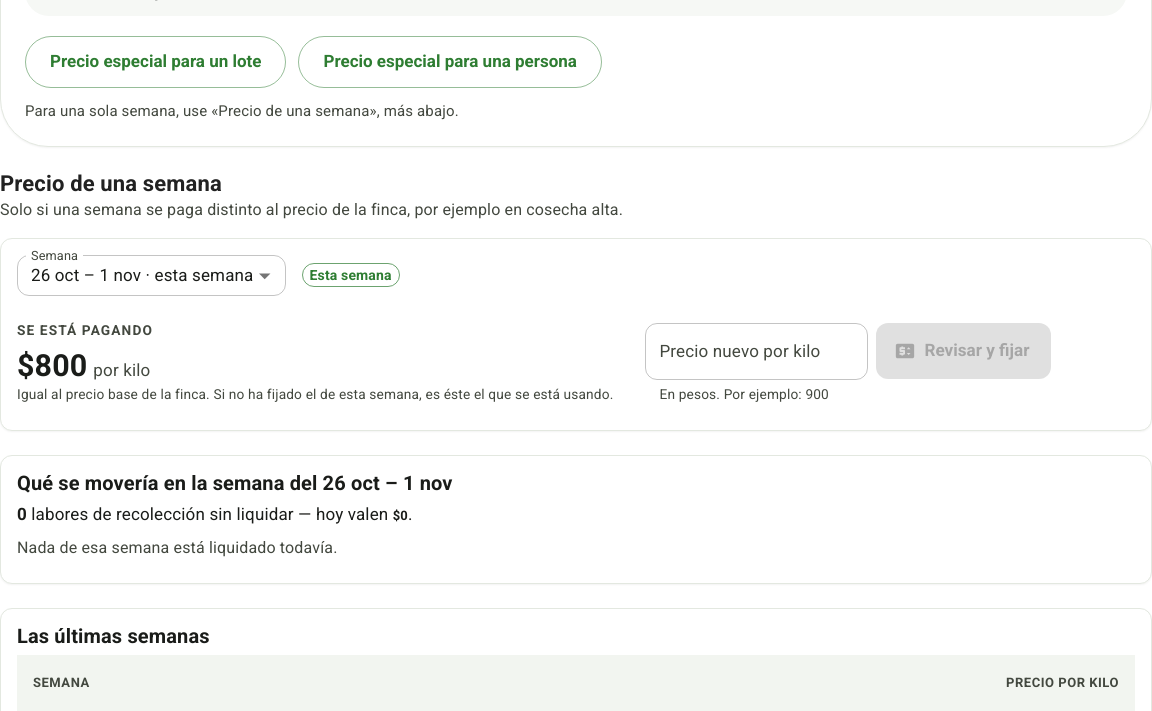
Scenario: the new price › closes the confirmation with Escape without saving
This screenshot has width=1152, height=711.
(page scrolled)
Type "900" into the field labelled "Precio nuevo por kilo" at (757, 351), box 645,323 -> 868,380
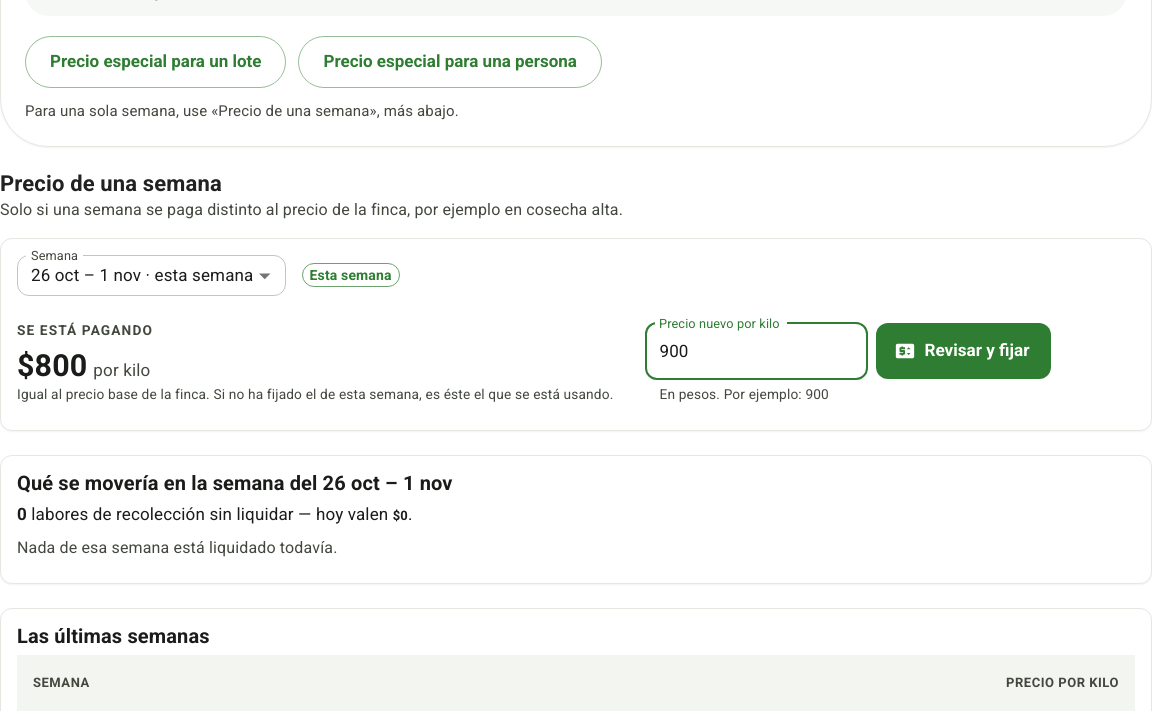
Click the button "Revisar y fijar" at (964, 351), box 876,323 -> 1051,379
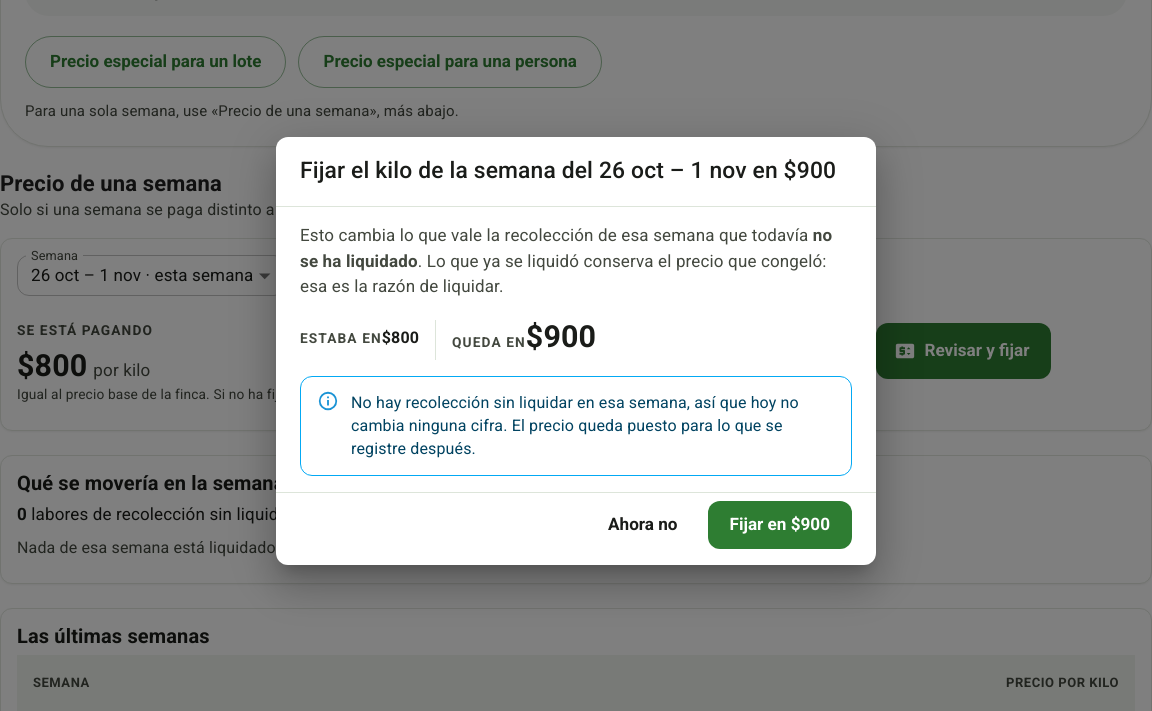
Result: the dialog is shown at 276,137 -> 876,564
Press Escape
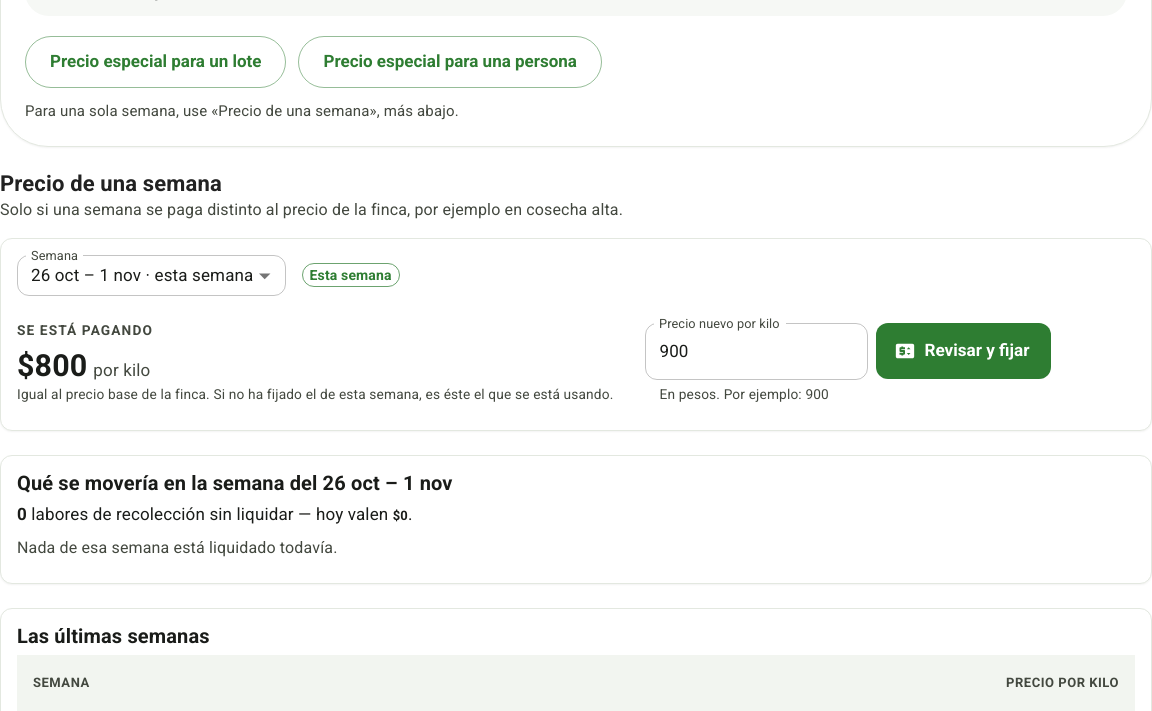
Result: the dialog is gone
